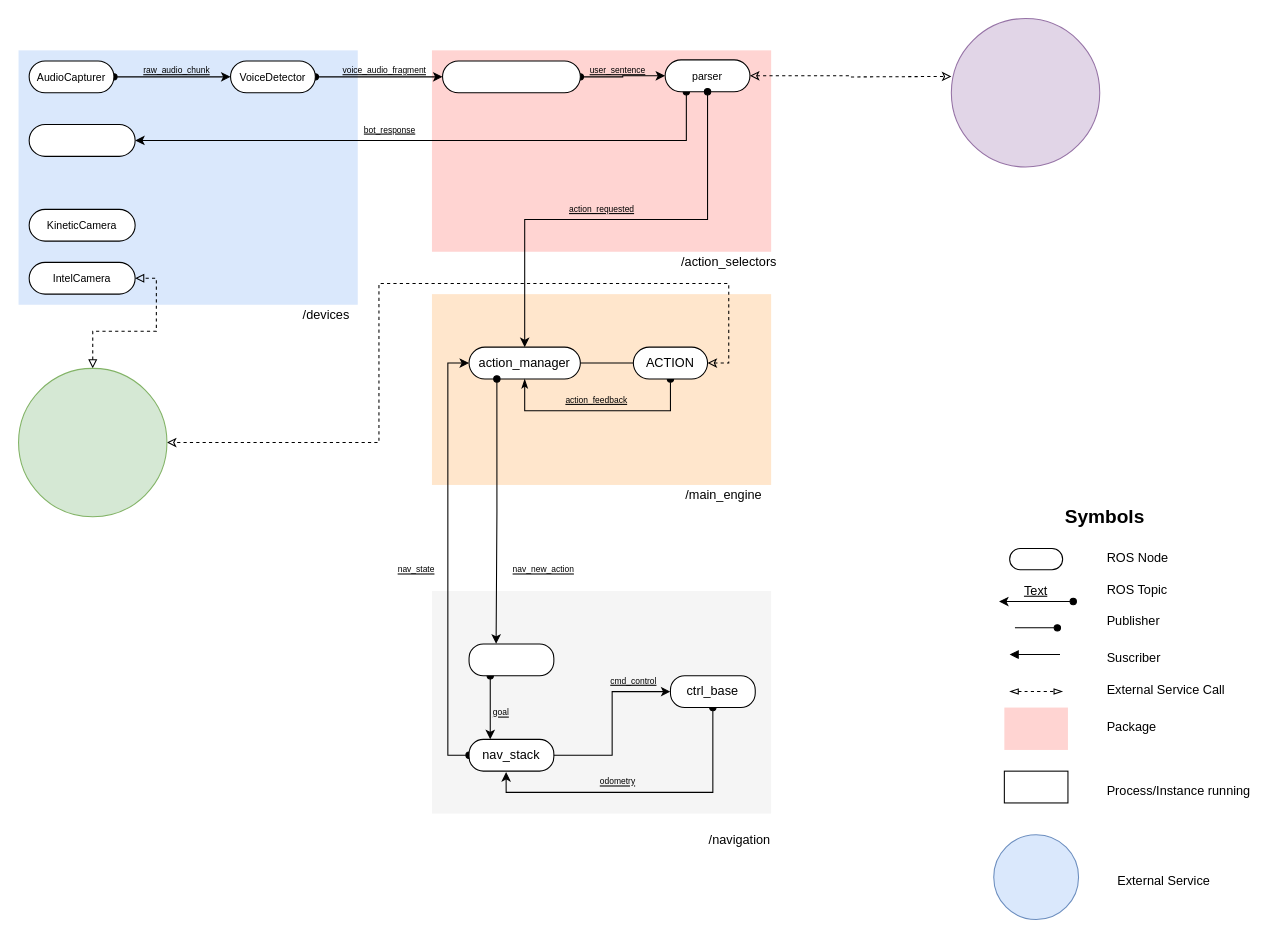
Image size: 1283x938. Some labels were removed from this diagram. The centre of each missing label's shape, as x and y in pixels:
ObjectDetection: point 92,442
RASA: point 1025,92
SpeechSynthesizer: point 81,139
SpeechToTextConverter: point 510,76
translator: point 511,659
